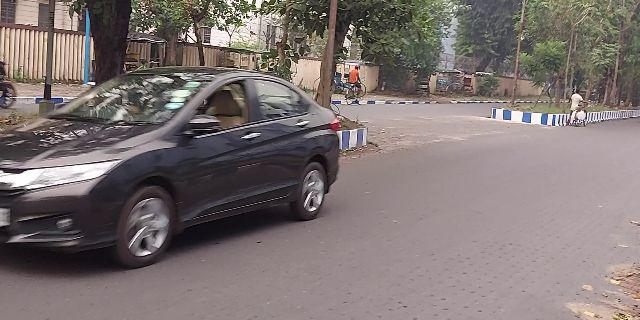Car: (7, 68, 349, 259)
